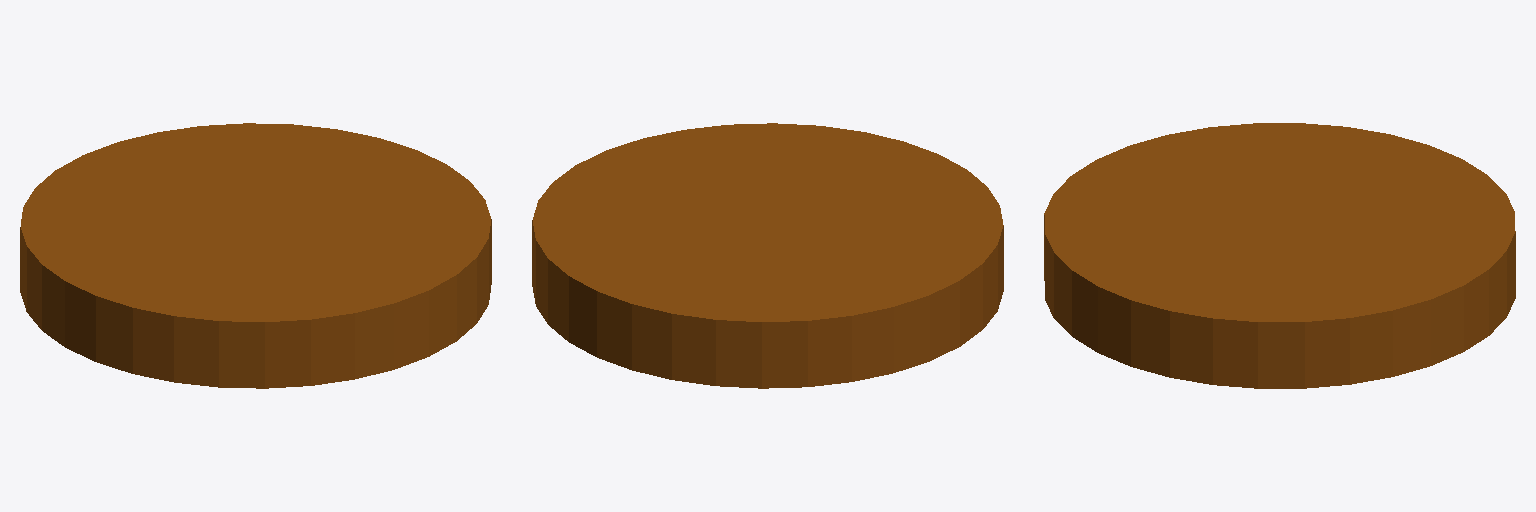
URDF robot description (Interference):
<?xml version="1.0"?>
<robot name="Interference">
  <link name="baseLink">
    <inertial>
      <origin xyz="0.0 0.0 0.0" rpy="0.0 0.0 0.0"/>
      <inertia ixx="0.0" ixy="0.0" ixz="0.0" iyy="0.0" iyz="0.0" izz="0.0"/>
      <mass value="0"/>
    </inertial>
    <visual>
      <origin xyz="0.0 0.0 0.0" rpy="0.0 0.0 1.2824903269421362"/>
      <geometry>
        <cylinder radius="0.032173952722657446" length="0.01"/>
      </geometry>
      <material name="color">
        <color rgba="0.5922210688010814 0.35891497822354257 0.11302139707576075 1.0"/>
      </material>
    </visual>
  </link>
</robot>

--- Render facts (derived) ---
Views: 3 orthographic renders of the robot side by side, from view 1: azimuth 30°, elevation 25°; view 2: azimuth 150°, elevation 25°; view 3: azimuth 270°, elevation 25°.
Model Interference with 1 links and 0 joints (none), rooted at baseLink, posed every joint at zero.
Visible links, largest first — view 1: baseLink; view 2: baseLink; view 3: baseLink.
Boxes of the visible links, x1,y1,x2,y2 form: baseLink: [20, 123, 491, 388]; baseLink: [532, 123, 1003, 388]; baseLink: [1044, 123, 1515, 388].
Size in the robot's own frame: 0.0641 by 0.0641 by 0.01 metres.
Geometry: primitives only (box / cylinder / sphere), no mesh files.